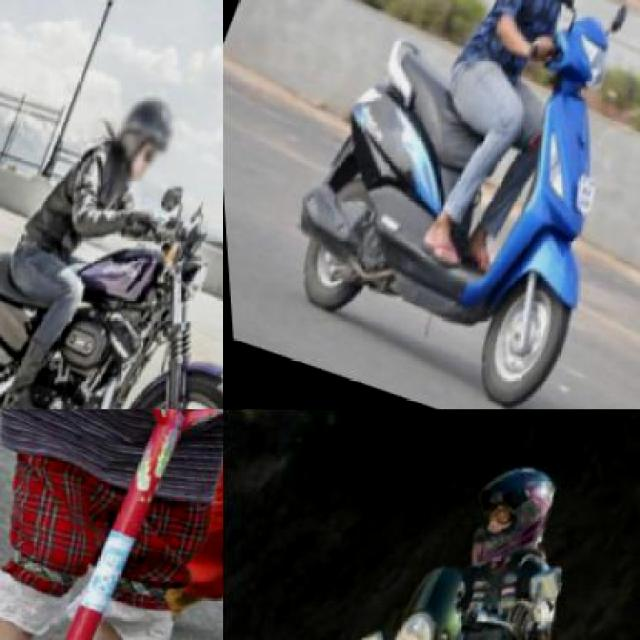With Helmet: (442, 452, 573, 598), (92, 85, 193, 210)
